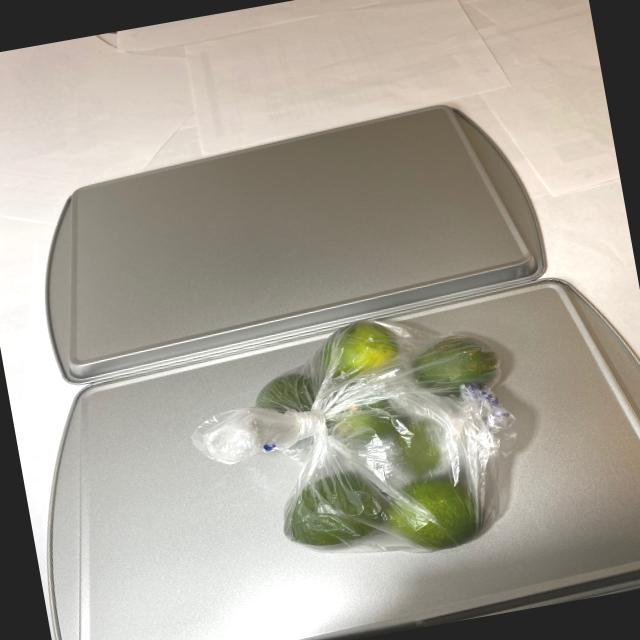lemon: (232, 298, 538, 572)
